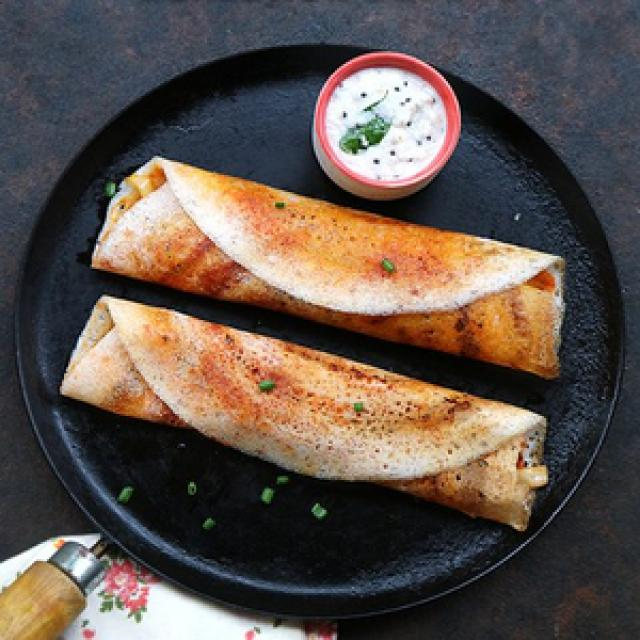dosa: (49, 284, 553, 544), (81, 151, 586, 386)
